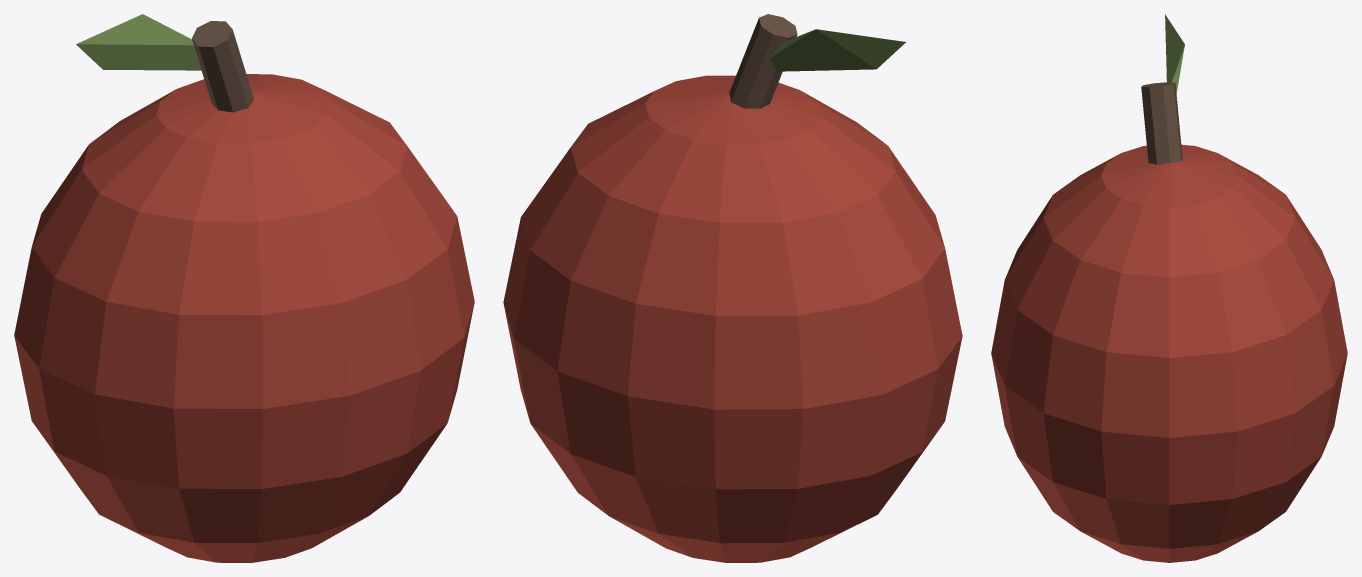
The model's file is AE_Item_RedOrchardApple.fbx.
3 views of the same model, side by side, from view 1: azimuth 30°, elevation 25°; view 2: azimuth 150°, elevation 25°; view 3: azimuth 270°, elevation 25° (orthographic). The views are drawn at different scales.
Parts seen in each view (by area): view 1: AE_Item_RedOrchardApple; view 2: AE_Item_RedOrchardApple; view 3: AE_Item_RedOrchardApple.
Boxes of the visible parts, x1,y1,x2,y2 form: AE_Item_RedOrchardApple: [14, 14, 474, 562]; AE_Item_RedOrchardApple: [503, 14, 962, 562]; AE_Item_RedOrchardApple: [991, 14, 1347, 562].
Bounding box in the file's own units: 0.18 × 0.229 × 0.16.
